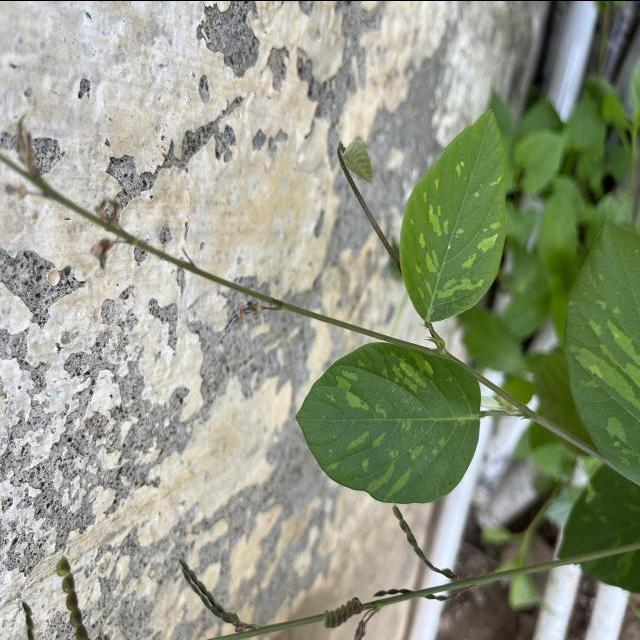Desmodium gangeticum: (292, 337, 486, 505), (396, 105, 508, 322)
